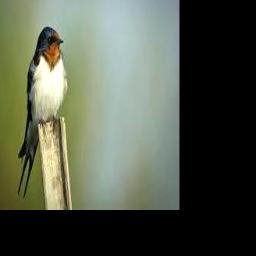Swallow: (16, 27, 68, 199)
